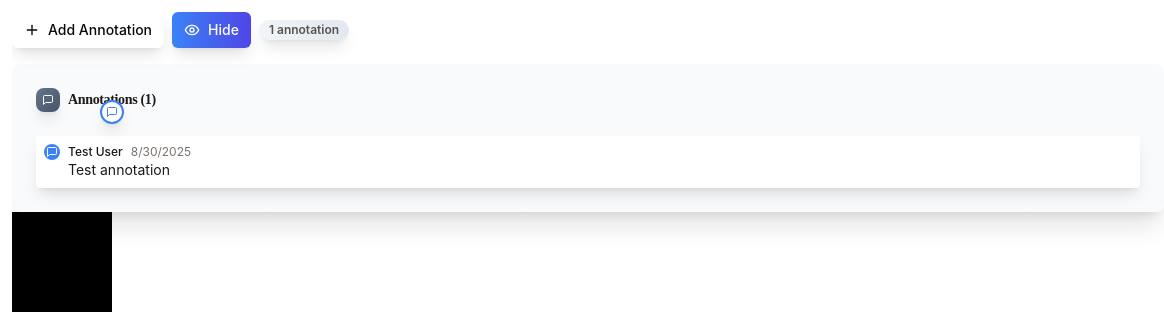
Test case: Chart Export and Sharing › ChartAnnotations › toggles annotation visibility
This screenshot has width=1164, height=329.
Expected: the text "Hide" is shown, [208, 20, 239, 40]
Note: Hide annotations
Click the button "Hide".
click(211, 30)  # box [172, 12, 251, 48]
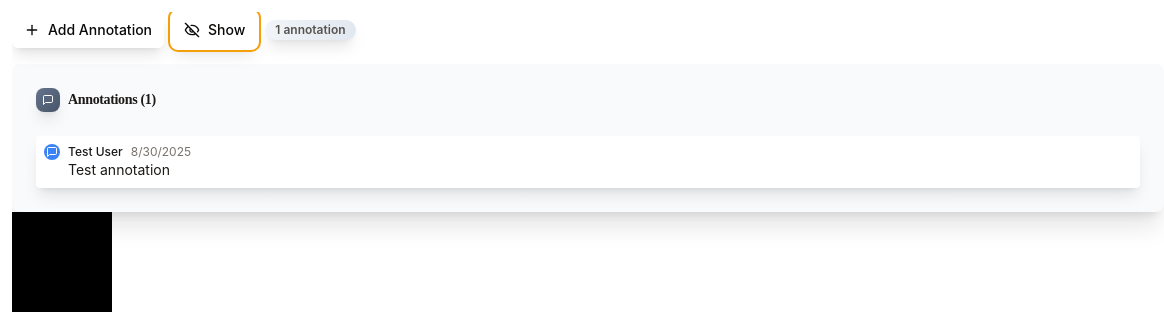
Result: the text "Show" is shown at [208, 20, 245, 40]
